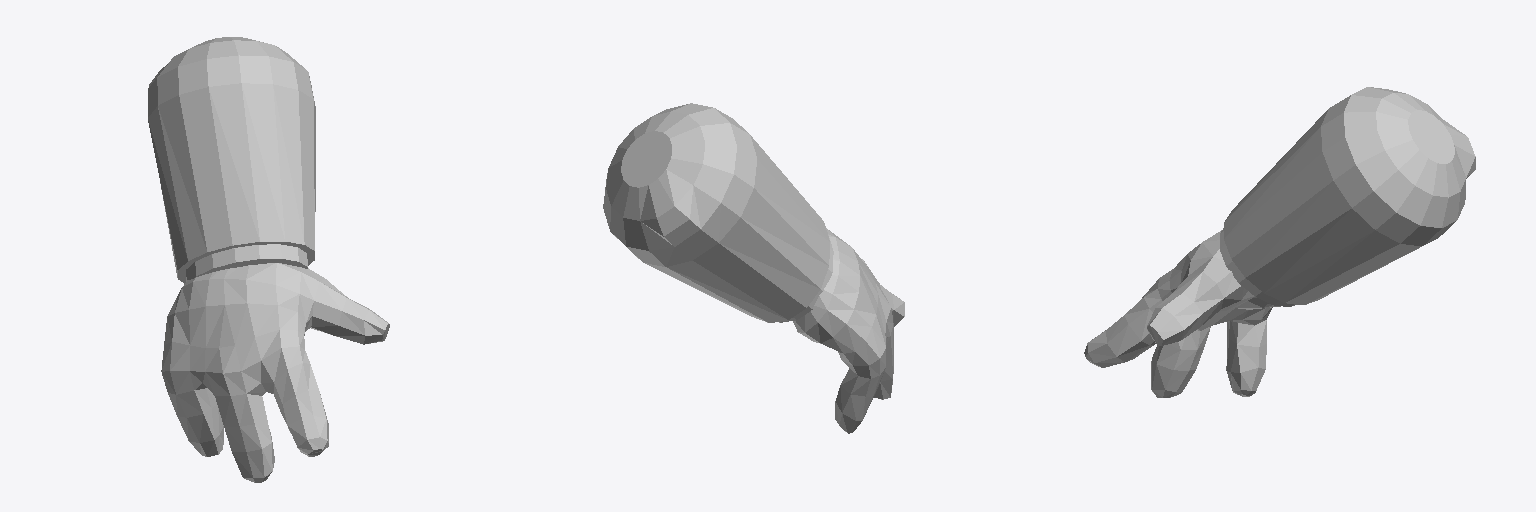
File: downhandr.obj
The picture shows the model from 3 angles: view 1: azimuth 30°, elevation 25°; view 2: azimuth 150°, elevation 25°; view 3: azimuth 270°, elevation 25°; orthographic projection.
Parts seen in each view (by area): view 1: al:handR, al:lowarmR, al:lowarmR1, al:sleaveR1; view 2: al:lowarmR1, al:lowarmR, al:handR; view 3: al:lowarmR, al:lowarmR1, al:handR, al:sleaveR1.
Boxes of the visible parts, x1,y1,x2,y2 form: al:handR: [161, 263, 389, 482]; al:lowarmR: [148, 83, 315, 277]; al:lowarmR1: [148, 37, 315, 283]; al:sleaveR1: [186, 244, 307, 281]; al:lowarmR1: [603, 103, 756, 266]; al:lowarmR: [621, 131, 829, 322]; al:handR: [793, 228, 904, 433]; al:lowarmR: [1224, 110, 1454, 304]; al:lowarmR1: [1321, 87, 1475, 245]; al:handR: [1084, 230, 1280, 397]; al:sleaveR1: [1220, 228, 1295, 306].
Bounding box in the file's own units: 1.13 × 1.79 × 1.85.